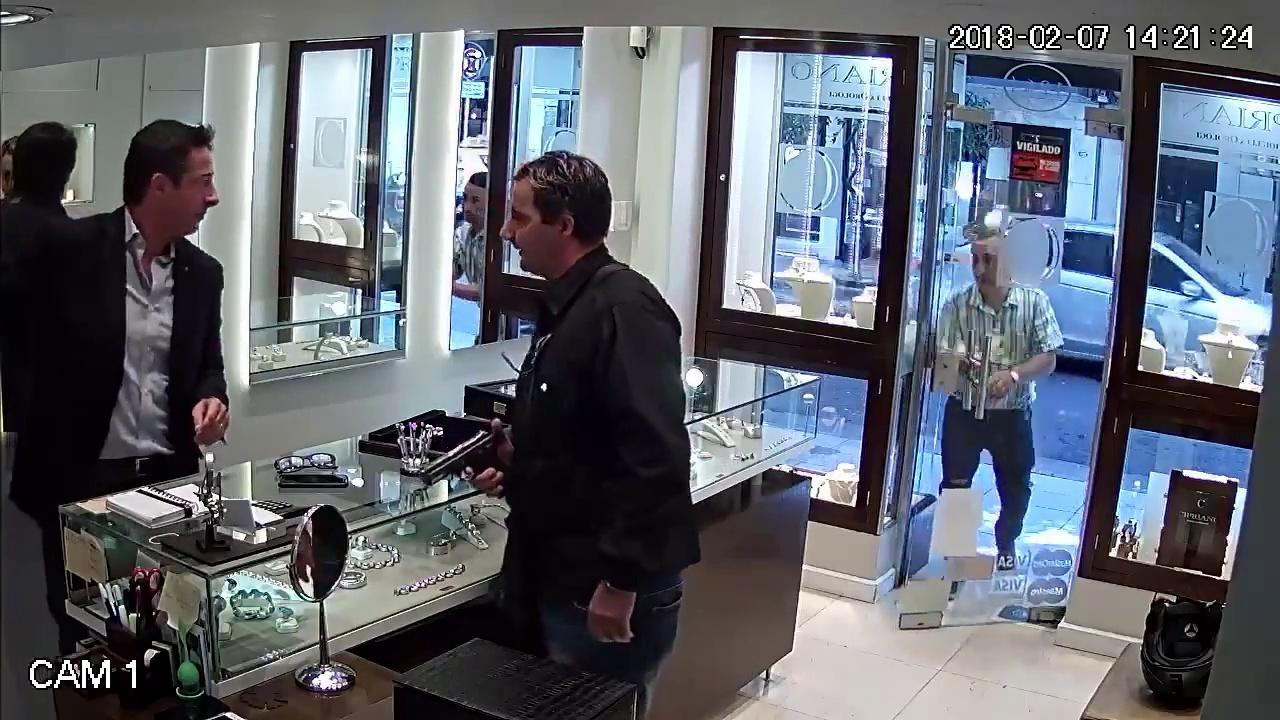Guns: (400, 407, 524, 502)
